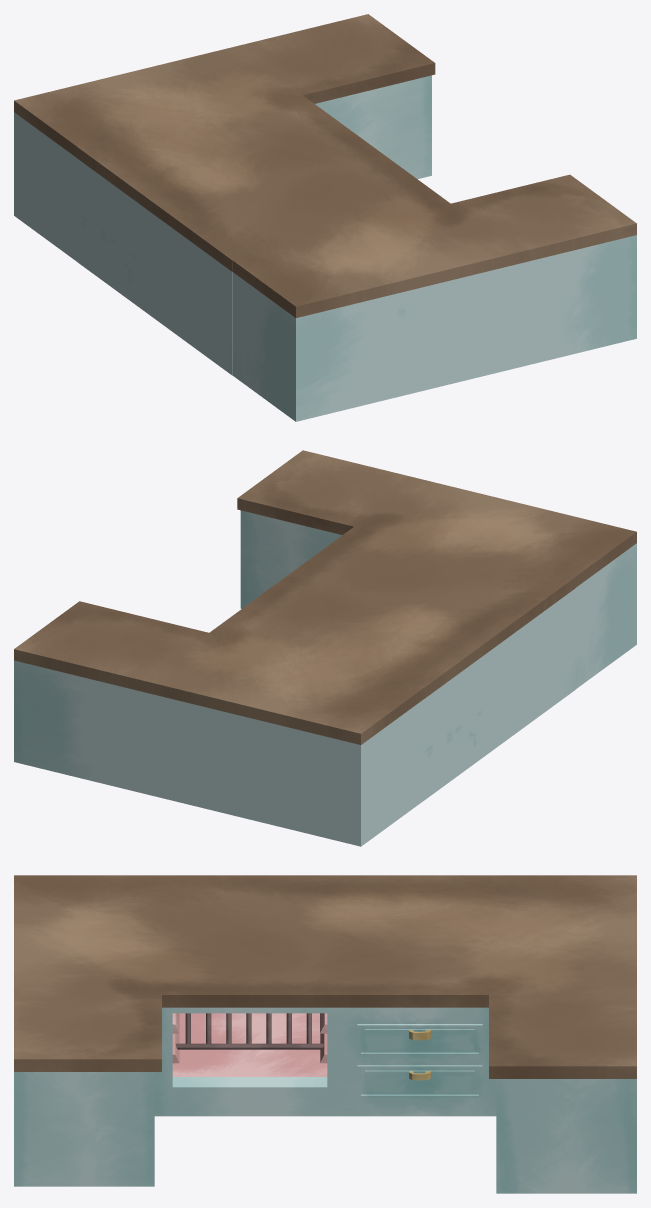
The model's file is Counters.fbx.
3 renders of one model, top to bottom at view 1: azimuth 30°, elevation 25°; view 2: azimuth 150°, elevation 25°; view 3: azimuth 270°, elevation 25°, orthographic. The views are drawn at different scales.
Parts seen in each view (by area): view 1: pCylinder11; view 2: pCylinder11; view 3: pCylinder11.
Part boxes in pixels (<box>): pCylinder11: <box>14,14,636,421</box>; pCylinder11: <box>14,450,636,846</box>; pCylinder11: <box>14,875,636,1193</box>.
Size of the model in its own units: 73 by 22.67 by 101.
Materials: 5 (5 with a texture image).
